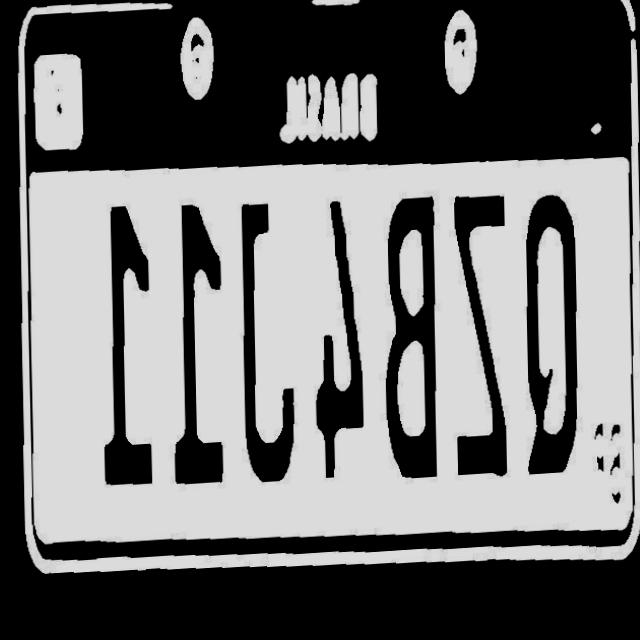1: (81, 197, 161, 502), (149, 199, 226, 499)
4: (301, 189, 376, 500)
b: (373, 195, 450, 500)
j: (231, 197, 298, 497)
q: (511, 195, 593, 493)
z: (439, 190, 512, 488)
